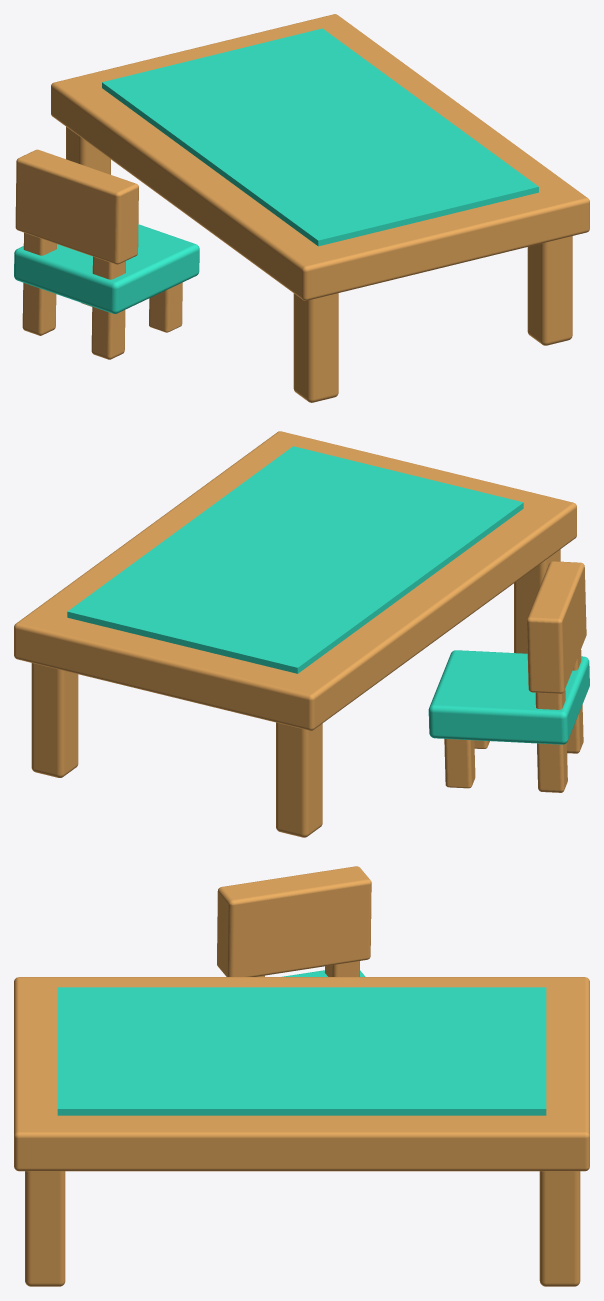
The model's file is desk_chair.glb.
The picture shows the model from 3 angles, top to bottom: view 1: azimuth 30°, elevation 25°; view 2: azimuth 150°, elevation 25°; view 3: azimuth 270°, elevation 25°; orthographic projection. The views are drawn at different scales.
Parts seen in each view (by area): view 1: Cube, Cube.005, Cube.006, Cube.002, Cube.004, Cube.009, Cube.007, Cube.010, Cube.001; view 2: Cube, Cube.006, Cube.005, Cube.003, Cube.001, Cube.007, Cube.002, Cube.008, Cube.009; view 3: Cube, Cube.005, Cube.003, Cube.004.
Boxes of the visible parts, <box> form: Cube: <box>51,14,589,300</box>; Cube.005: <box>15,149,138,264</box>; Cube.006: <box>14,224,199,313</box>; Cube.002: <box>293,293,338,402</box>; Cube.004: <box>527,236,572,345</box>; Cube.009: <box>91,256,125,359</box>; Cube.007: <box>22,232,56,335</box>; Cube.010: <box>149,282,182,332</box>; Cube.001: <box>66,127,110,174</box>; Cube: <box>14,431,576,730</box>; Cube.006: <box>428,650,589,744</box>; Cube.005: <box>526,561,586,693</box>; Cube.003: <box>31,663,78,777</box>; Cube.001: <box>276,722,322,837</box>; Cube.007: <box>535,689,567,792</box>; Cube.002: <box>514,549,560,653</box>; Cube.008: <box>444,739,475,788</box>; Cube.009: <box>567,650,583,753</box>; Cube: <box>14,977,589,1171</box>; Cube.005: <box>217,866,371,976</box>; Cube.003: <box>539,1171,580,1286</box>; Cube.004: <box>25,1171,65,1286</box>.
Size of the model in its own units: 0.3583 by 0.1405 by 0.3707.
